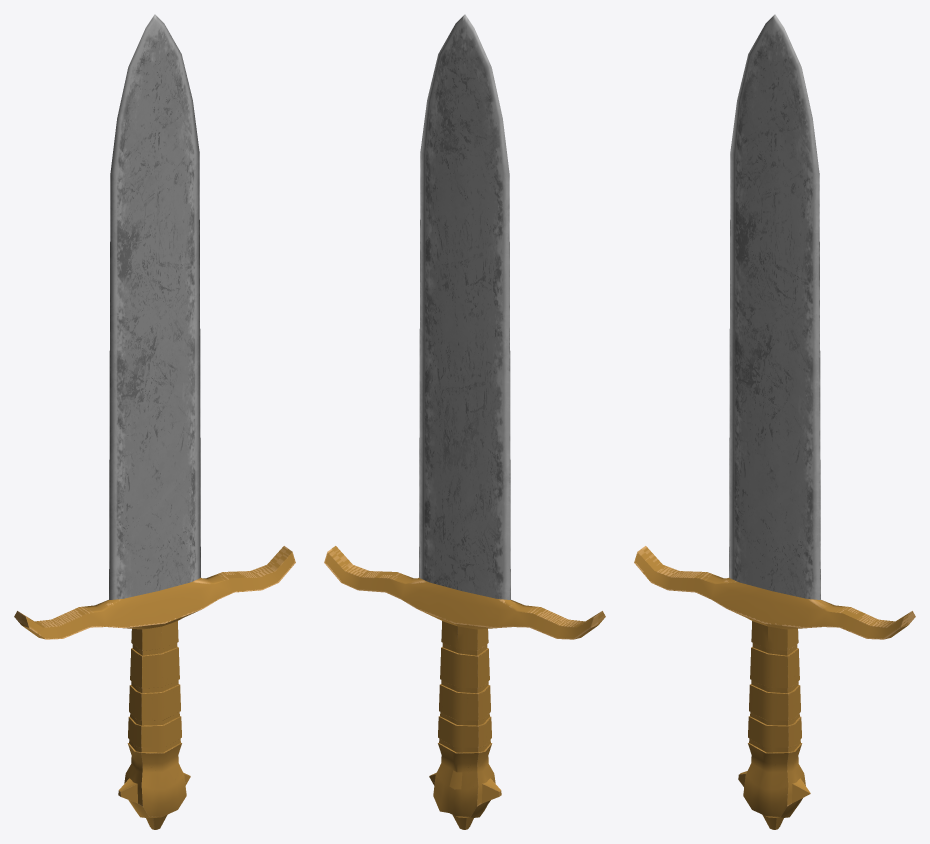
Rendered from ITM_OFFENSIVE_SWORD.fbx.
3 views of the same model, side by side, from view 1: azimuth 30°, elevation 25°; view 2: azimuth 150°, elevation 25°; view 3: azimuth 330°, elevation 25° (orthographic).
Visible parts, largest first — view 1: itm_offensive_sword; view 2: itm_offensive_sword; view 3: itm_offensive_sword.
Boxes of the visible parts, bbox=[...] form: itm_offensive_sword: bbox=[14, 14, 295, 829]; itm_offensive_sword: bbox=[324, 14, 605, 829]; itm_offensive_sword: bbox=[634, 14, 915, 829].
Bounding box in the file's own units: 56.53 × 165 × 7.97.
